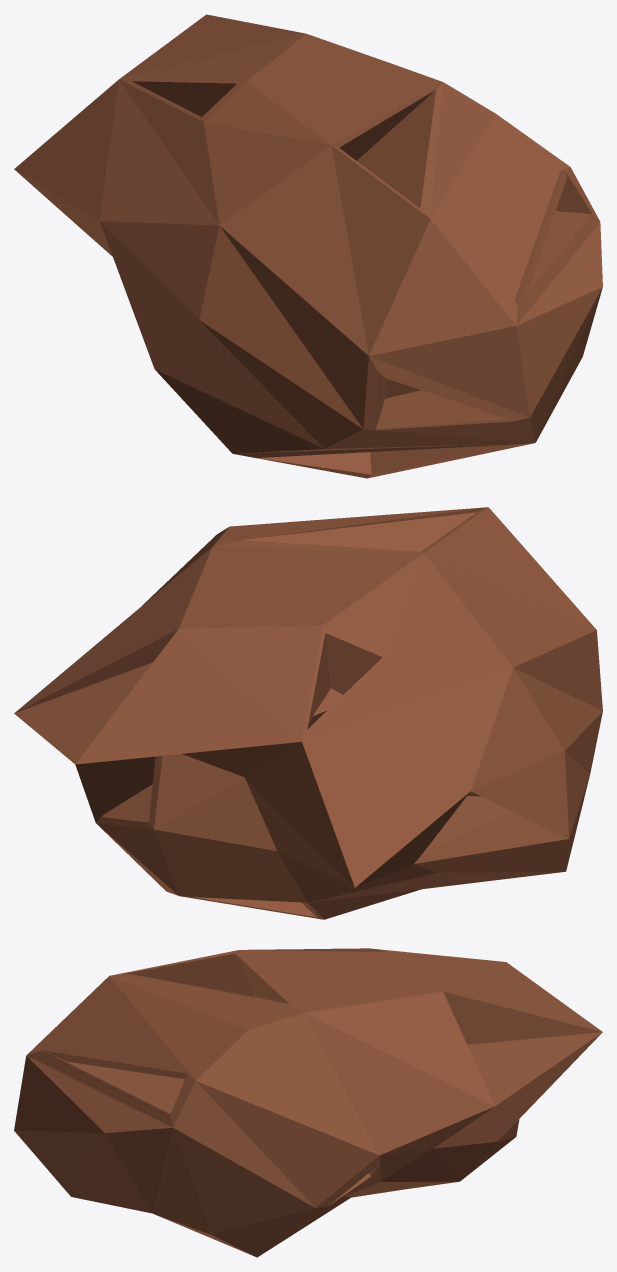
File: Asteroid.005.fbx
3 views of the same model, one above another, from view 1: azimuth 30°, elevation 25°; view 2: azimuth 150°, elevation 25°; view 3: azimuth 270°, elevation 25° (orthographic). The views are drawn at different scales.
Parts seen in each view (by area): view 1: Asteroid.005; view 2: Asteroid.005; view 3: Asteroid.005.
Part boxes in pixels (box(x1,y1,x2,y2)): Asteroid.005: box(14, 14, 602, 478); Asteroid.005: box(14, 507, 602, 919); Asteroid.005: box(14, 948, 602, 1257).
Size of the model in its own units: 8.67 by 6.57 by 13.17.
